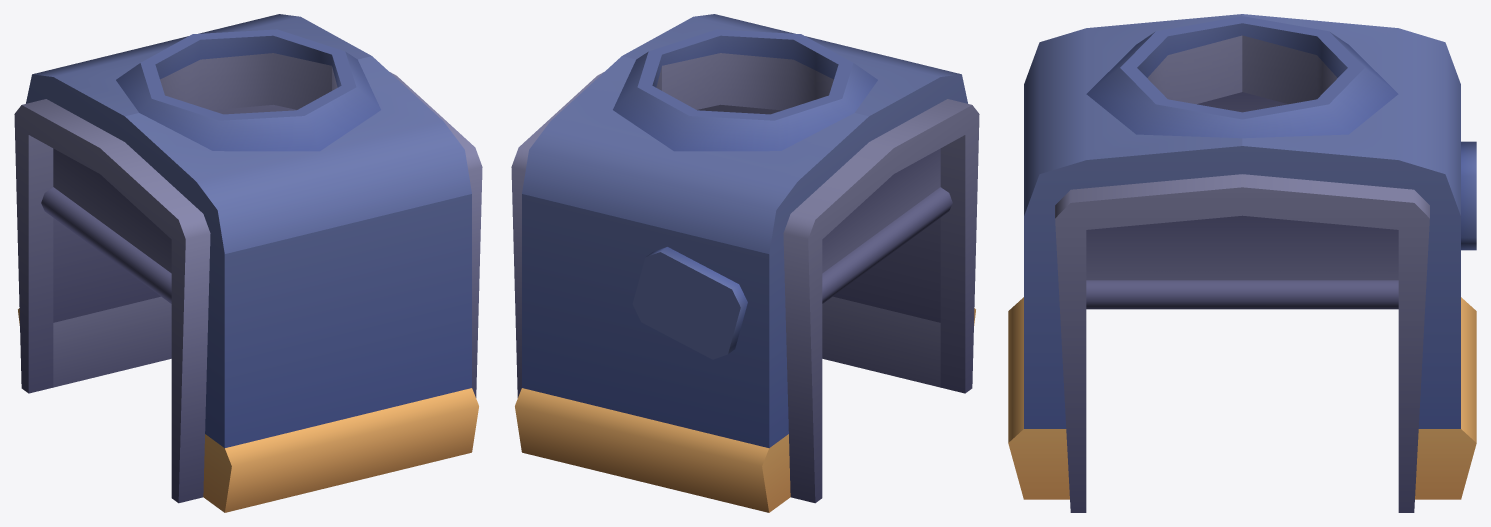
The model's file is kenney-factory-machine-connection-hole.glb.
3 views of the same model, side by side, from view 1: azimuth 30°, elevation 25°; view 2: azimuth 150°, elevation 25°; view 3: azimuth 270°, elevation 25° (orthographic). The views are drawn at different scales.
Parts seen in each view (by area): view 1: machine-connection-hole; view 2: machine-connection-hole; view 3: machine-connection-hole.
Boxes of the visible parts, x1,y1,x2,y2 form: machine-connection-hole: [14, 14, 482, 512]; machine-connection-hole: [511, 14, 979, 512]; machine-connection-hole: [1008, 14, 1476, 512].
Bounding box in the file's own units: 1.8 × 1.94 × 2.25.
Materials: 1 (1 with a texture image).
